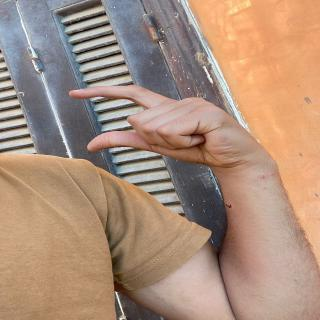DELL: (60, 74, 244, 166)
